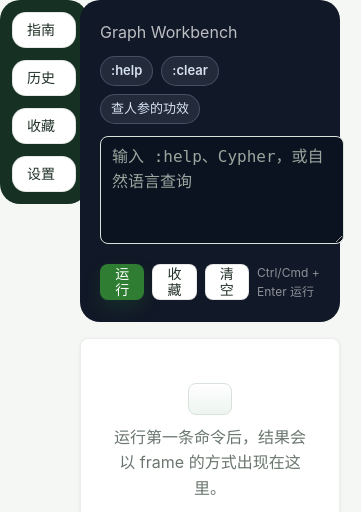
Test: GraphWorkbenchPage › inserts a starter command into the editor when clicked
Click the button with aria-label "插入起手命令 :help" at {"x": 127, "y": 71}, box [100,56,153,86]
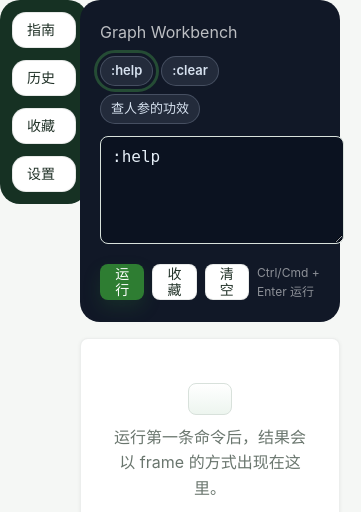
expect the text box with placeholder "输入 :help、Cypher，或自然语言查询" holds ":help": met, box [100,136,344,244]
